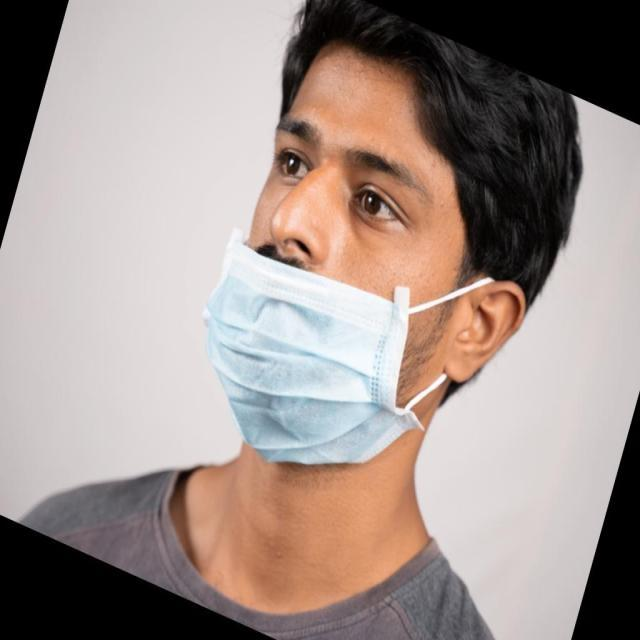hairnet: (194, 109, 486, 516)
